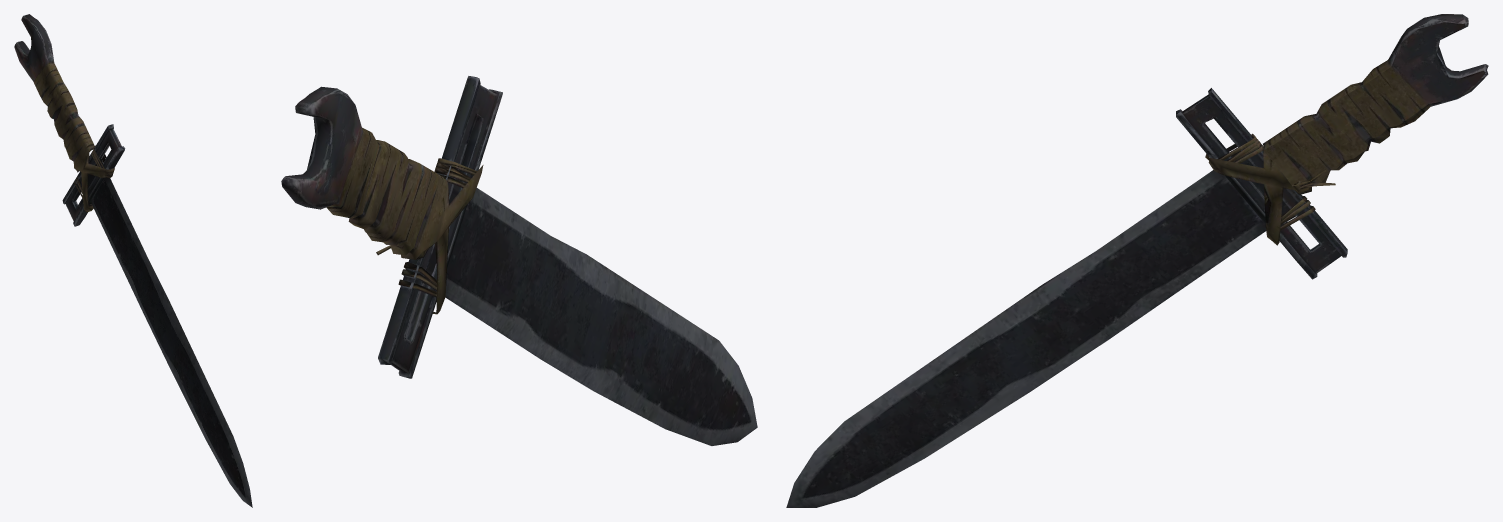
File: sword.worldmodel.glb
The picture shows the model from 3 angles, left to right: view 1: azimuth 30°, elevation 25°; view 2: azimuth 150°, elevation 25°; view 3: azimuth 270°, elevation 25°; orthographic projection. The views are drawn at different scales.
Visible parts, largest first — view 1: w_melee_set_wp_6_LOD0; view 2: w_melee_set_wp_6_LOD0; view 3: w_melee_set_wp_6_LOD0.
Part boxes in pixels (x1,y1,x2,y2): w_melee_set_wp_6_LOD0: (14, 14, 252, 507); w_melee_set_wp_6_LOD0: (281, 76, 757, 445); w_melee_set_wp_6_LOD0: (786, 14, 1488, 507).
Size of the model in its own units: 0.0229 by 0.5148 by 0.6671.
1 material, 1 textured.
